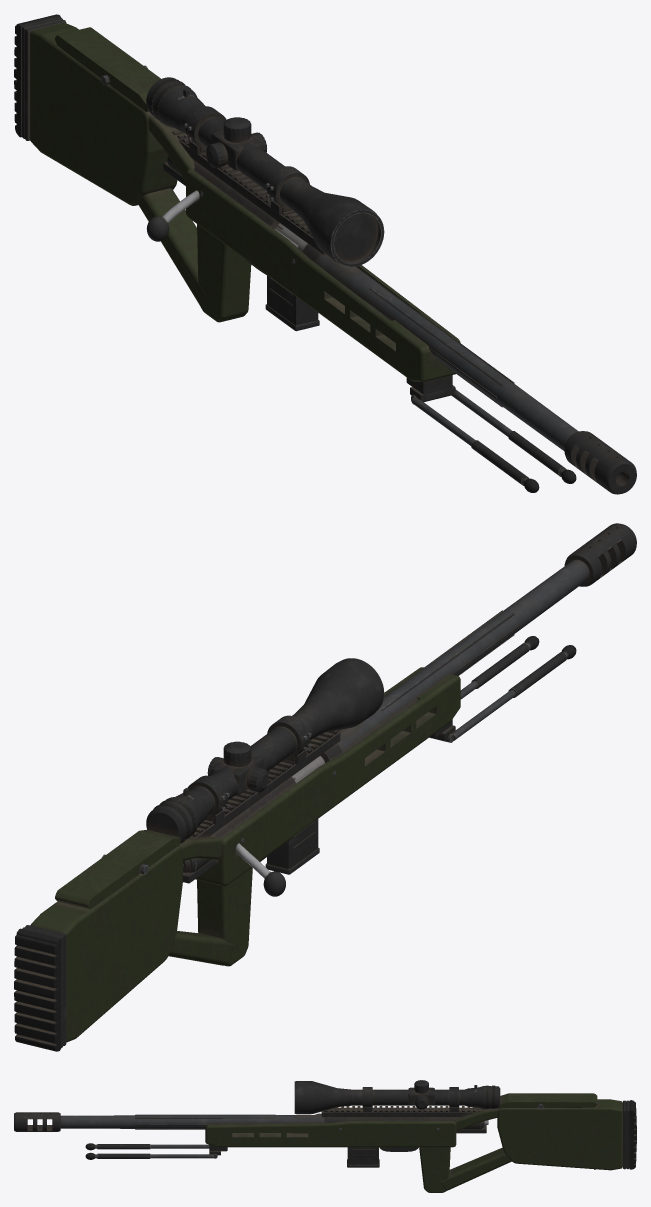
Rendered from sniper.glb.
3 views of the same model, one above another, from view 1: azimuth 30°, elevation 25°; view 2: azimuth 150°, elevation 25°; view 3: azimuth 270°, elevation 25° (orthographic). The views are drawn at different scales.
Parts seen in each view (by area): view 1: mesh_body, mesh_scope, mesh_bipod, mesh_mag, mesh_bolt_handle; view 2: mesh_body, mesh_scope, mesh_bipod, mesh_mag, mesh_bolt_handle; view 3: mesh_body, mesh_scope, mesh_bipod, mesh_mag.
Part boxes in pixels (x1,y1,x2,y2): mesh_body: (14, 14, 636, 494); mesh_scope: (146, 77, 384, 266); mesh_bipod: (410, 385, 576, 492); mesh_mag: (265, 275, 319, 331); mesh_bolt_handle: (146, 190, 199, 241); mesh_body: (14, 523, 636, 1051); mesh_scope: (146, 658, 384, 843); mesh_bipod: (429, 636, 576, 742); mesh_mag: (265, 819, 319, 874); mesh_bolt_handle: (235, 843, 285, 896); mesh_body: (14, 1093, 636, 1192); mesh_scope: (294, 1080, 500, 1114); mesh_bipod: (85, 1143, 220, 1159); mesh_mag: (347, 1147, 379, 1167).
Bounding box in the file's own units: 0.108 × 0.22 × 1.15.
8 materials, 7 textured.
